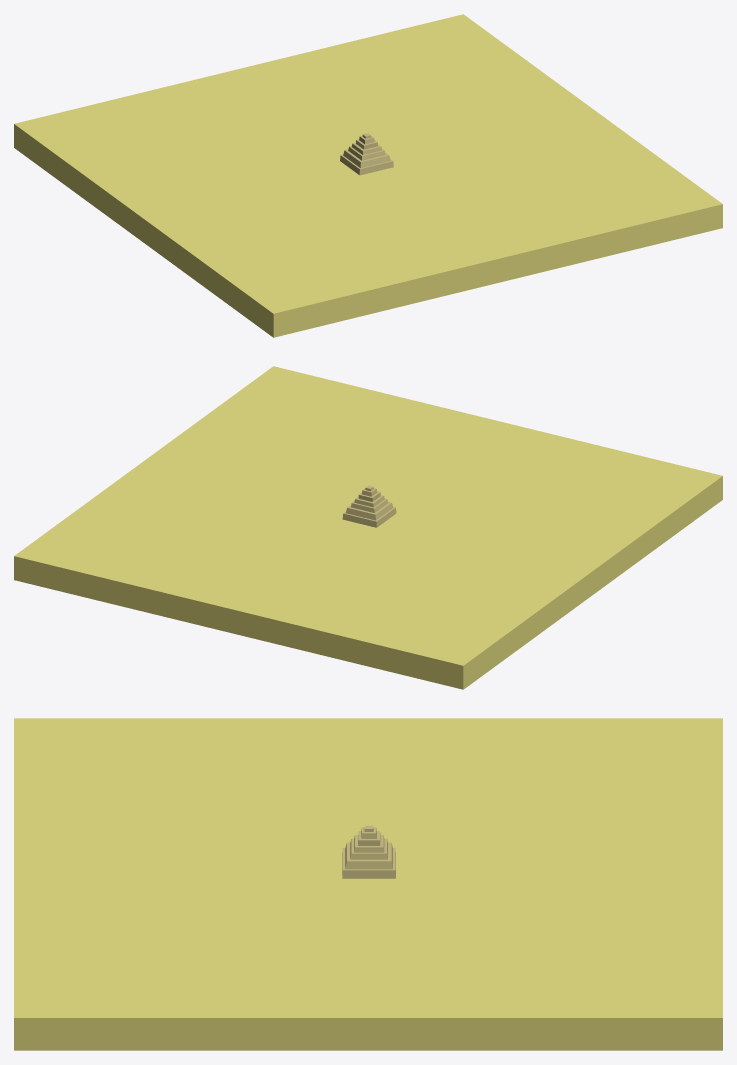
File: planet-desert-only-pyramid.fbx
The picture shows the model from 3 angles, top to bottom: view 1: azimuth 30°, elevation 25°; view 2: azimuth 150°, elevation 25°; view 3: azimuth 270°, elevation 25°; orthographic projection. The views are drawn at different scales.
Visible parts, largest first — view 1: Plane, Pyramid; view 2: Plane, Pyramid; view 3: Plane, Pyramid.
Part boxes in pixels (box(x1,y1,x2,y2)): Plane: box(14, 14, 722, 337); Pyramid: box(340, 133, 393, 175); Plane: box(14, 366, 722, 689); Pyramid: box(342, 485, 396, 527); Plane: box(14, 718, 722, 1050); Pyramid: box(342, 825, 395, 878).
Size of the model in its own units: 23227 by 2629 by 23227.
